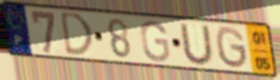7: (29, 8, 59, 56)
8: (107, 18, 132, 60)
D: (60, 10, 95, 57)
G: (214, 25, 250, 71), (139, 19, 172, 64)
U: (177, 23, 217, 67)
